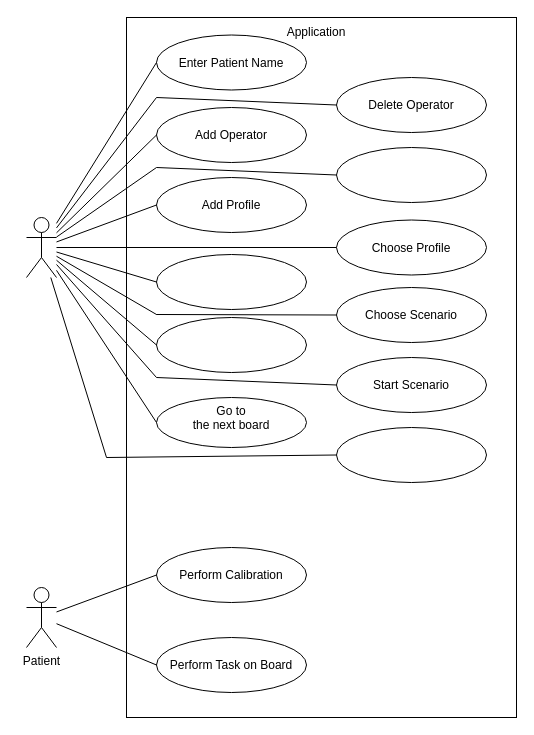
Some shapes in this 534 by 735 pixel diagram are drawn without their labels. Here are the shapes that lost their labels. From the top down, the box of each, then its label:
(336, 146, 486, 202): Delete Profile
(26, 216, 56, 278): Assistant
(156, 254, 306, 310): Choose Operator
(156, 316, 306, 372): Start Calibration
(336, 426, 486, 482): Close Application
